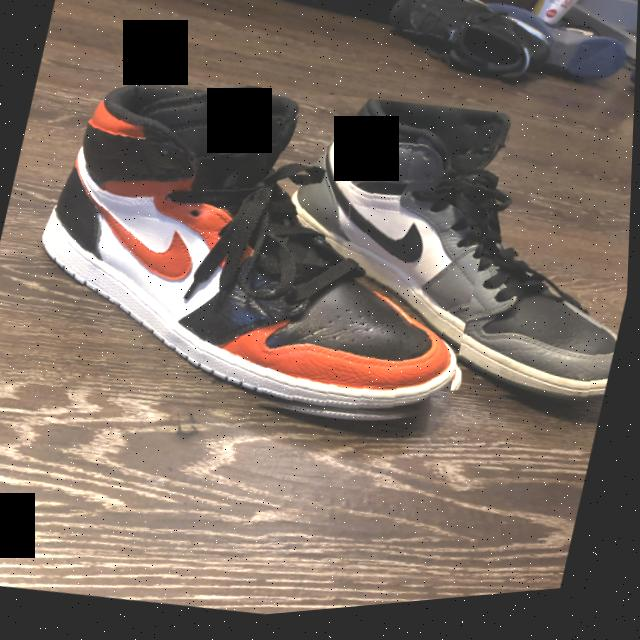shoe: (9, 40, 517, 473), (249, 79, 636, 444)
